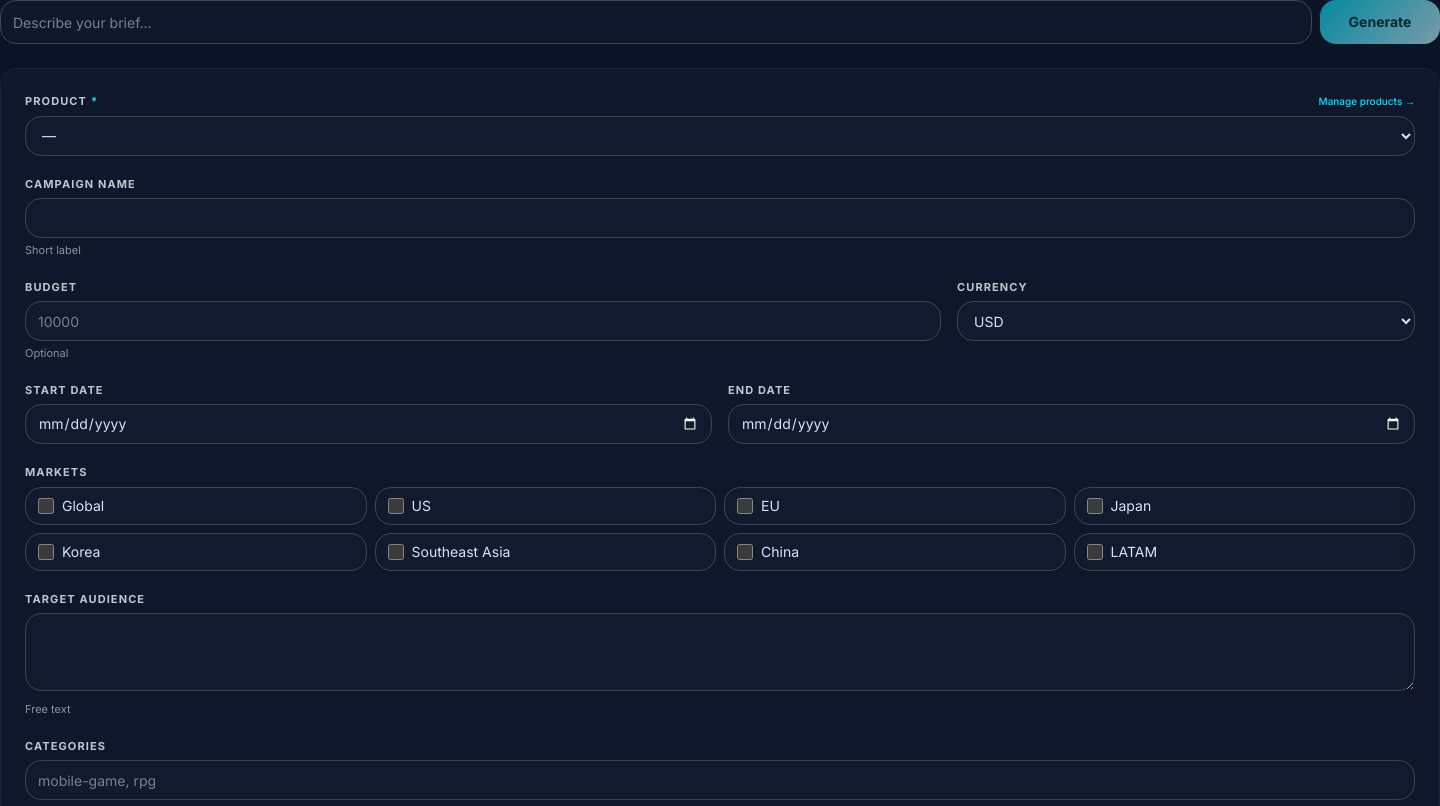
Test: BL-069-F003 BriefPageClient › 4. Generate cap exhausted → cap toast + form unchanged
Type "Q2 推产品" into the field with test id "brief-ai-input". click: coordinates (656, 22)
box: [0,0,1312,44]
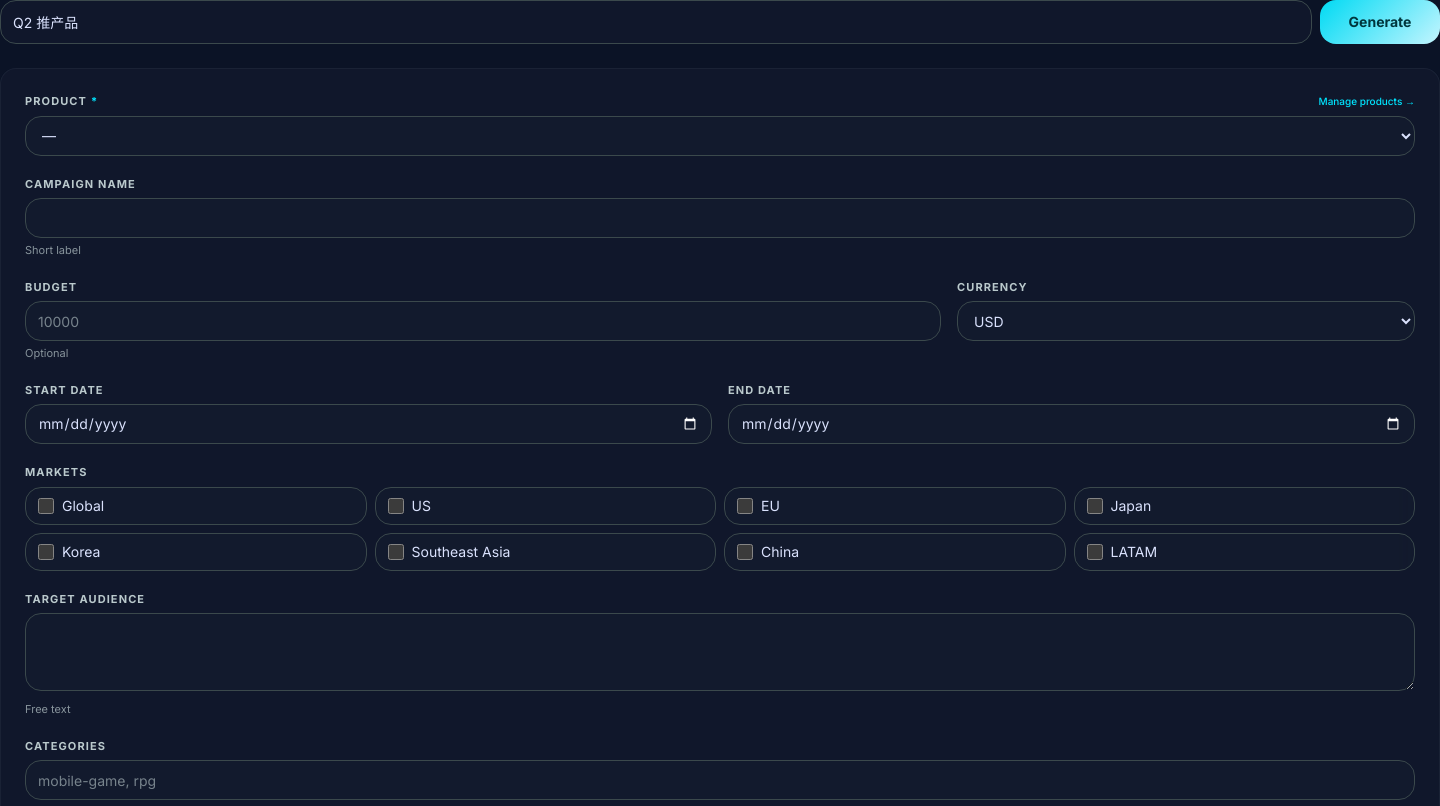
Click the button with test id "brief-ai-generate". click: coordinates (1380, 22)
box: [1320,0,1439,44]
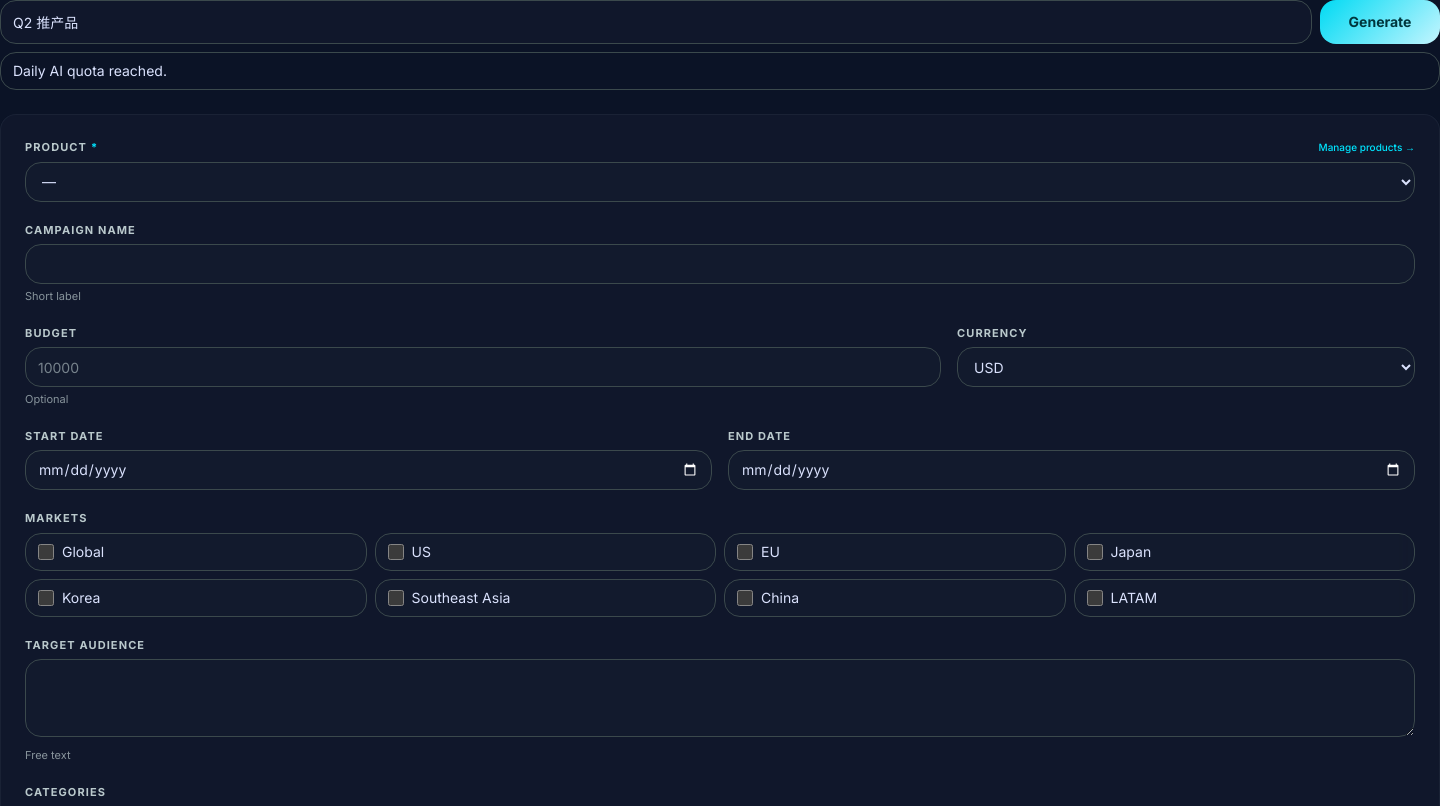
Expected: the field with test id "brief-budget-amount" is empty, [25,347,941,387]
Expected: the text "Daily AI quota reached." is shown, [0,52,1439,90]
